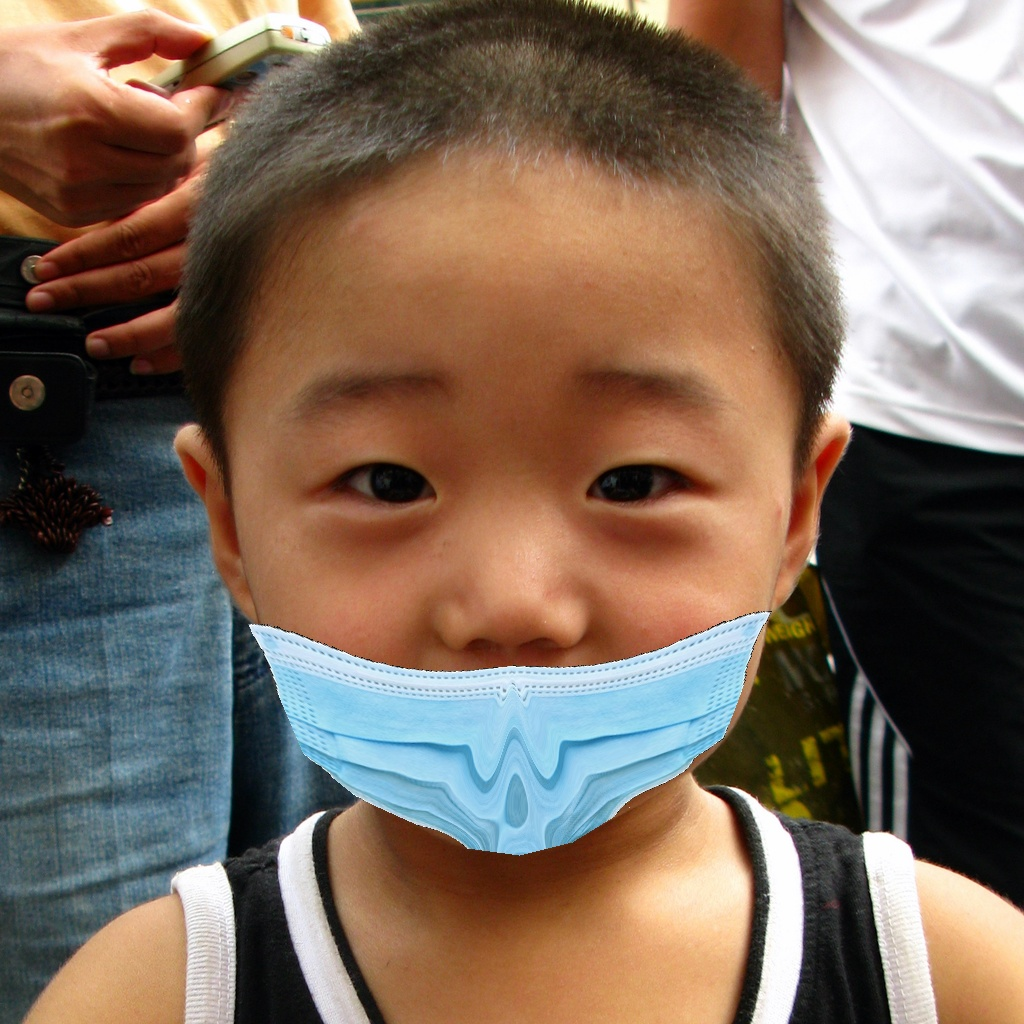mask_weared_incorrect: (246, 352, 780, 862)
